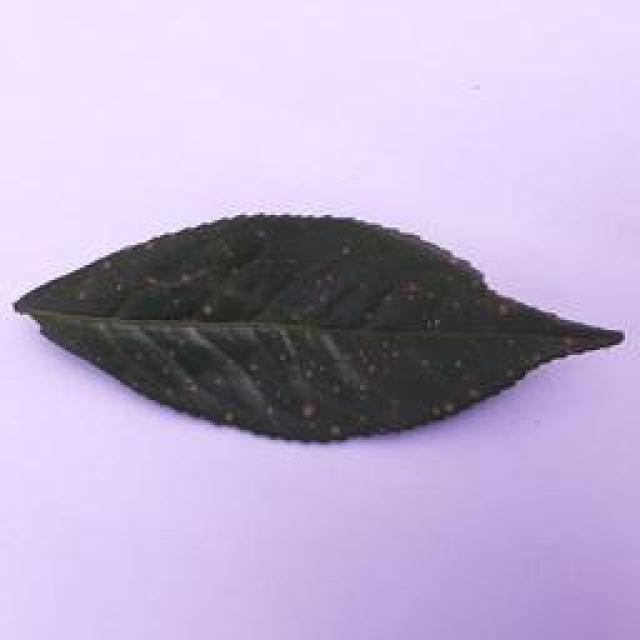Algal Leaf Spot: (8, 210, 628, 445)
